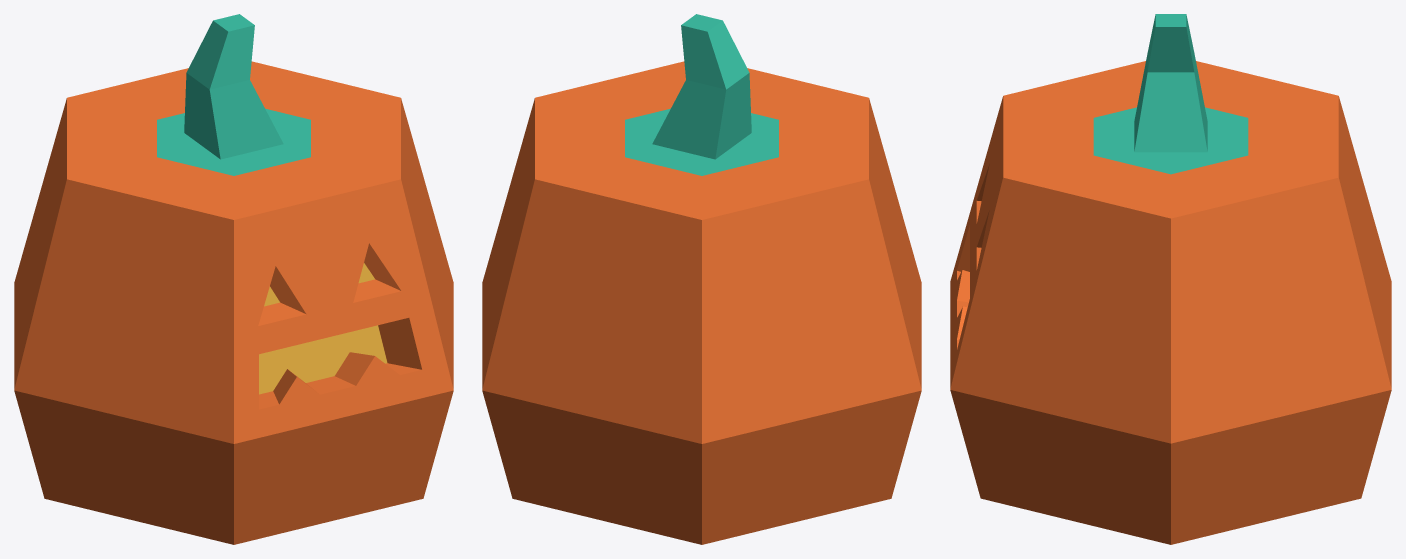
The model's file is pumpkinTallCarved.fbx.
3 renders of one model, left to right at view 1: azimuth 30°, elevation 25°; view 2: azimuth 150°, elevation 25°; view 3: azimuth 270°, elevation 25°, orthographic.
Parts seen in each view (by area): view 1: pumpkinTallCarved; view 2: pumpkinTallCarved; view 3: pumpkinTallCarved.
Boxes of the visible parts, box(x1,y1,x2,y2) form: pumpkinTallCarved: box(14, 14, 453, 544); pumpkinTallCarved: box(482, 14, 921, 544); pumpkinTallCarved: box(950, 14, 1391, 544).
Bounding box in the file's own units: 2.78 × 2.6 × 2.41.
